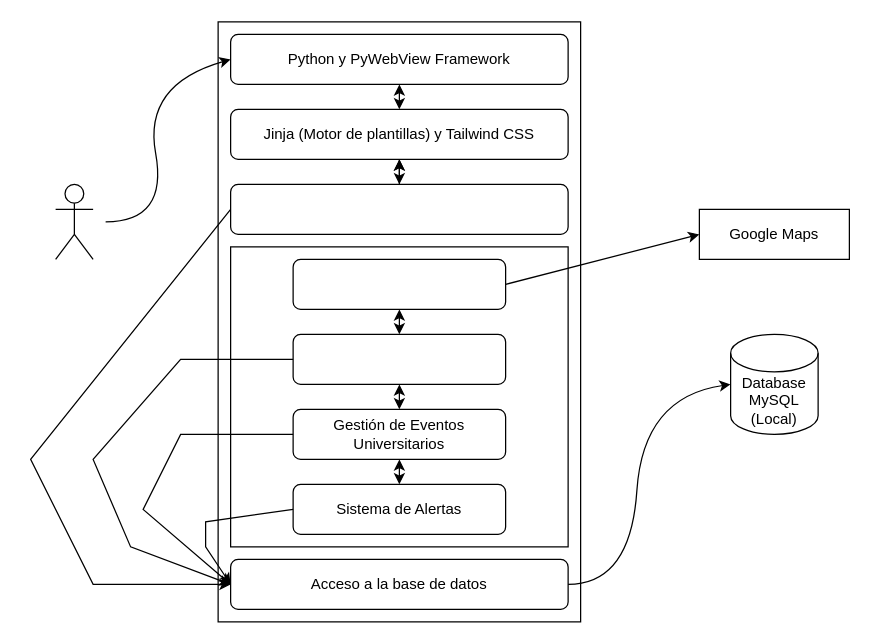
The diagram is 871 pixels wide and 644 high, and some of its shapes have lost their labels. The shapes that lost their labels are listed below. From the top down, each one's centre as x and y in pixels, then its label:
At (x=73, y=221): "Cliente".
At (x=398, y=208): "Autenticación y Registro de Usuario".
At (x=399, y=283): "Planeación de rutas".
At (x=399, y=358): "Gestión de solicitudes".
